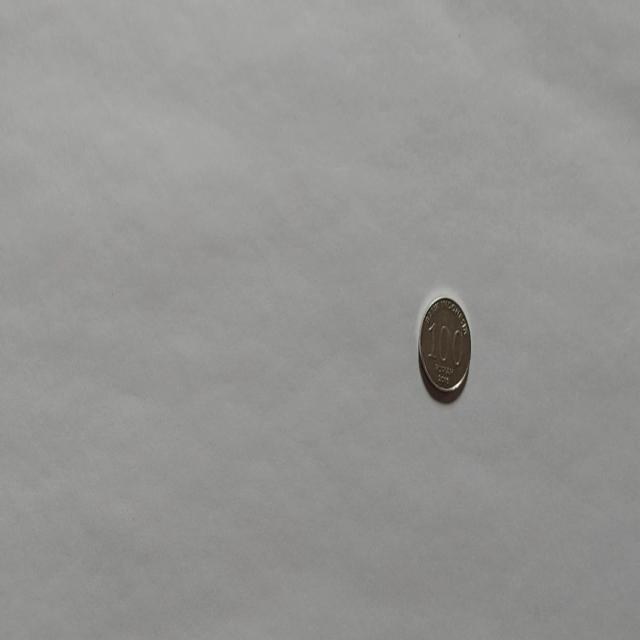seratus rupiah: (418, 294, 472, 396)
